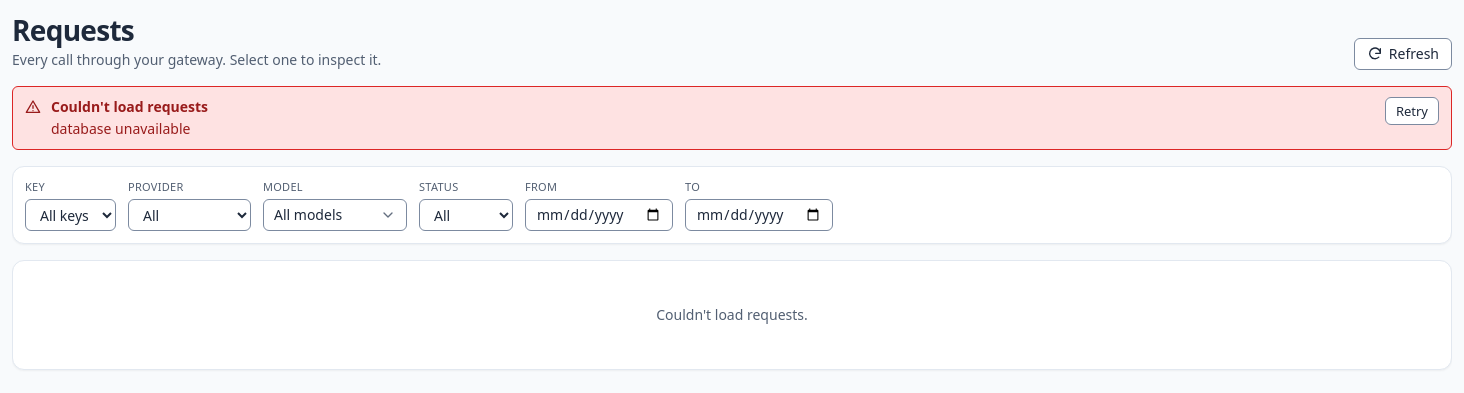
Scenario: Requests: honest loading, error and empty states › announces a failed load with a Retry that reloads, and does not claim there are no requests
The image size is (1464, 393).
Expected: the message shows "Couldn't load requests", [51, 97, 208, 116]
Expected: the message shows "database unavailable", [51, 119, 190, 138]
Click the button "Retry". click: click(1412, 111)
box: [1385, 97, 1439, 125]
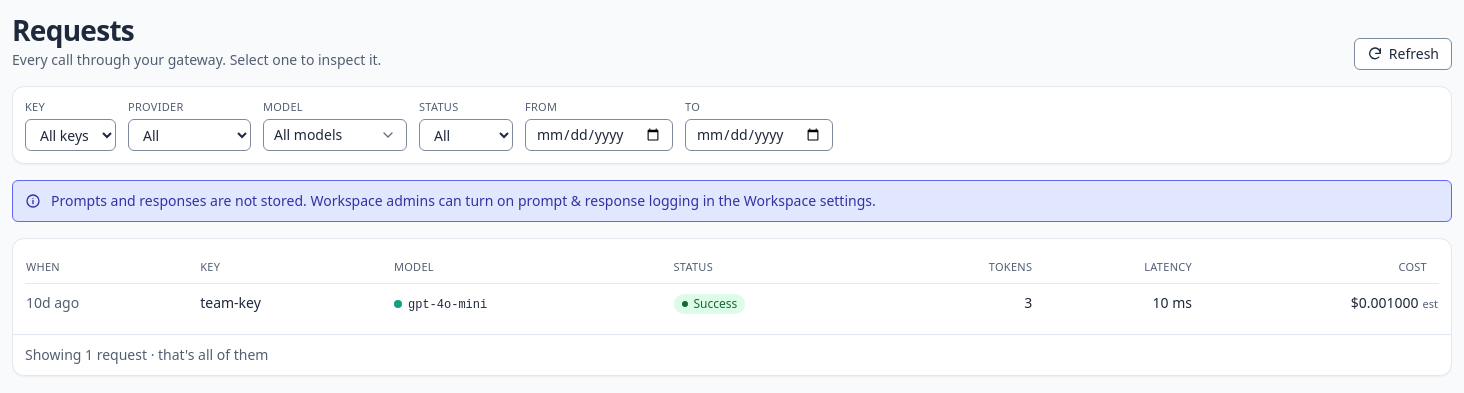
Now the text "team-key" is shown, box [199, 284, 393, 322]
Now the message "Couldn't load requests database unavailable Retry" is gone
